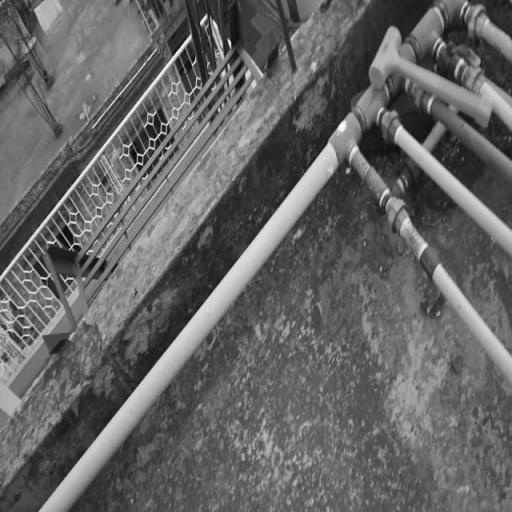mallet: (366, 24, 492, 126)
